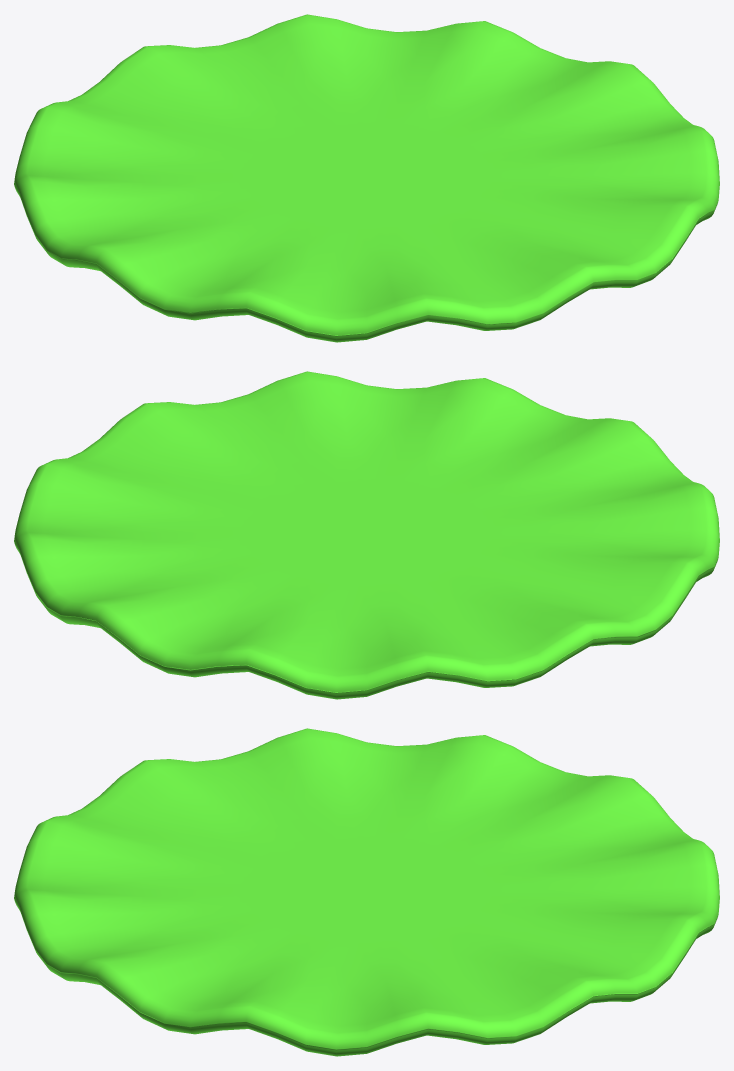
The model's file is lechuga.glb.
3 renders of one model, top to bottom at view 1: azimuth 30°, elevation 25°; view 2: azimuth 150°, elevation 25°; view 3: azimuth 270°, elevation 25°, orthographic.
Visible parts, largest first — view 1: Lettuce; view 2: Lettuce; view 3: Lettuce.
Boxes of the visible parts, bbox=[...] form: Lettuce: bbox=[14, 14, 719, 342]; Lettuce: bbox=[14, 371, 719, 699]; Lettuce: bbox=[14, 728, 719, 1056].
Size of the model in its own units: 138 by 9.09 by 138.
